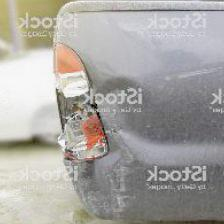tail_lamp: (51, 32, 114, 186)
